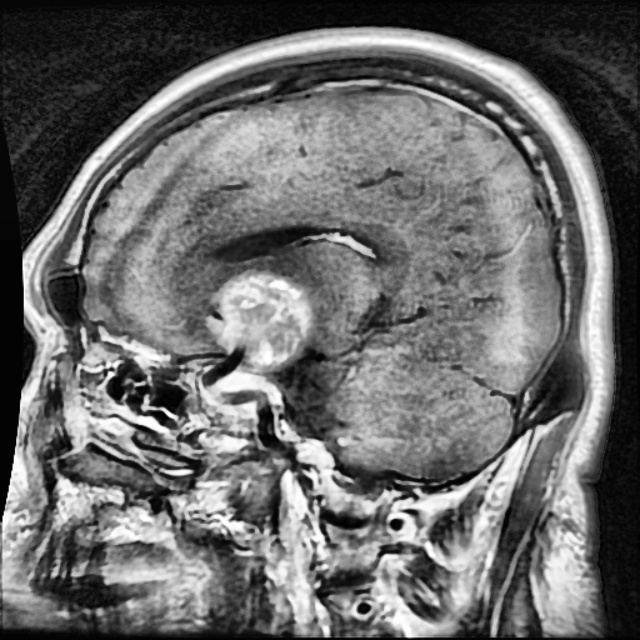Pituitary: (209, 274, 309, 367)
